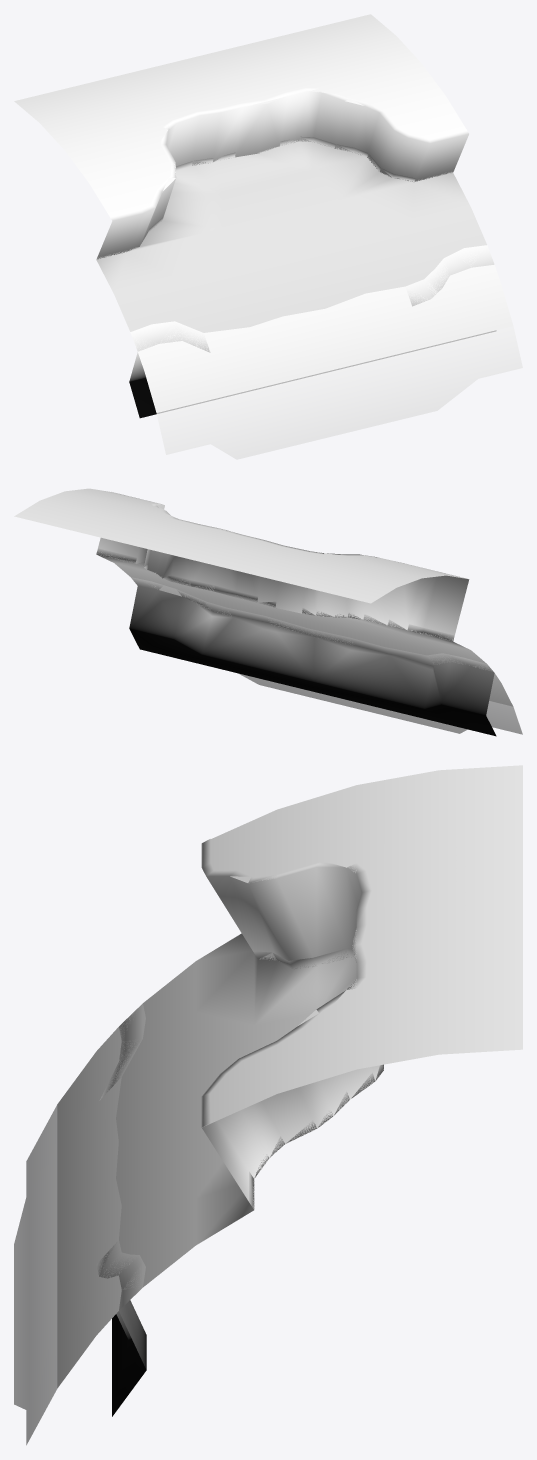
The model's file is grd_Ms_3.dae.
The picture shows the model from 3 angles, top to bottom: view 1: azimuth 30°, elevation 25°; view 2: azimuth 150°, elevation 25°; view 3: azimuth 270°, elevation 25°; orthographic projection. The views are drawn at different scales.
Visible parts, largest first — view 1: beach_0_0, wave_5_0, glass_3_0, ocean_4_0, cliff_2_0, beach_1_0; view 2: beach_1_0, glass_3_0, cliff_2_0, beach_0_0, wave_5_0, ocean_4_0; view 3: glass_3_0, beach_0_0, cliff_2_0, wave_5_0, ocean_4_0, beach_1_0.
Boxes of the visible parts, x1,y1,x2,y2 form: beach_0_0: [96, 136, 486, 332]; wave_5_0: [132, 249, 522, 459]; glass_3_0: [14, 14, 465, 217]; ocean_4_0: [138, 246, 513, 412]; cliff_2_0: [97, 87, 468, 259]; beach_1_0: [129, 245, 495, 418]; beach_1_0: [129, 577, 496, 736]; glass_3_0: [14, 488, 466, 603]; cliff_2_0: [97, 493, 469, 640]; beach_0_0: [96, 548, 486, 663]; wave_5_0: [154, 582, 522, 734]; ocean_4_0: [132, 577, 512, 706]; glass_3_0: [202, 765, 522, 1127]; beach_0_0: [116, 933, 383, 1287]; cliff_2_0: [201, 839, 383, 1208]; wave_5_0: [14, 1006, 144, 1445]; ocean_4_0: [57, 1006, 144, 1388]; beach_1_0: [96, 1003, 146, 1416].
Size of the model in its own units: 512 by 357 by 387.
Materials: 6 (1 with a texture image).
